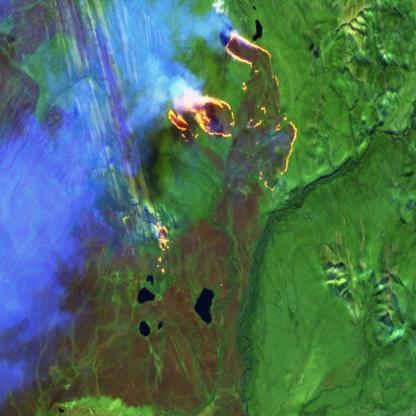fire: (164, 27, 300, 195), (147, 216, 177, 276)
